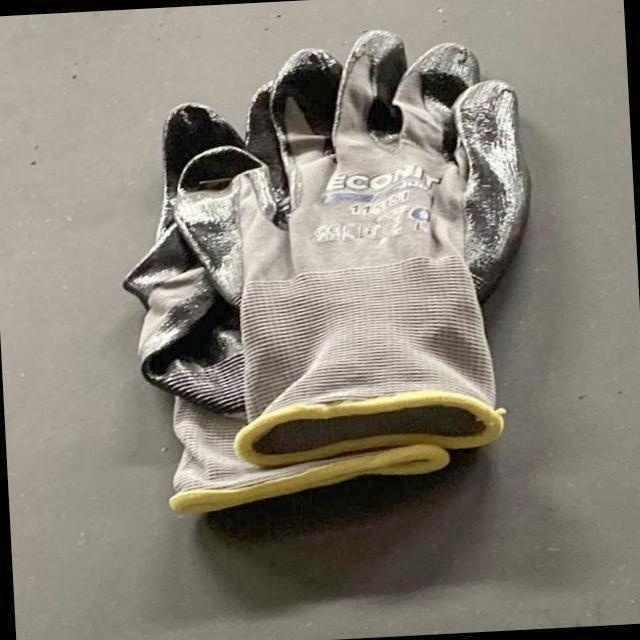Guantes: (108, 32, 547, 476)
